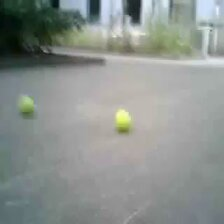tennis: (17, 94, 36, 115), (115, 110, 132, 130)
